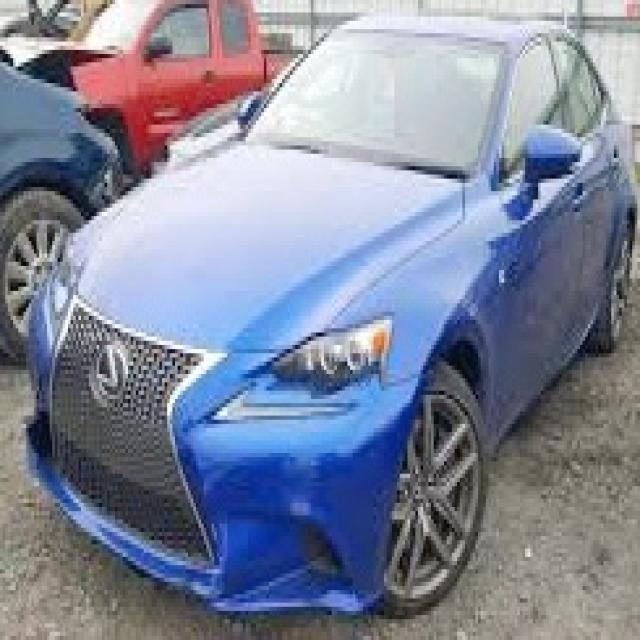blue: (27, 23, 636, 606)
